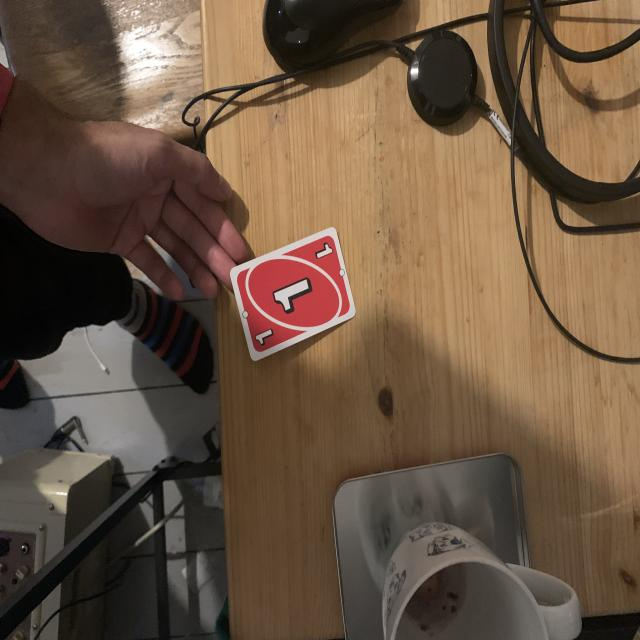lred-1: (313, 240, 335, 263)
